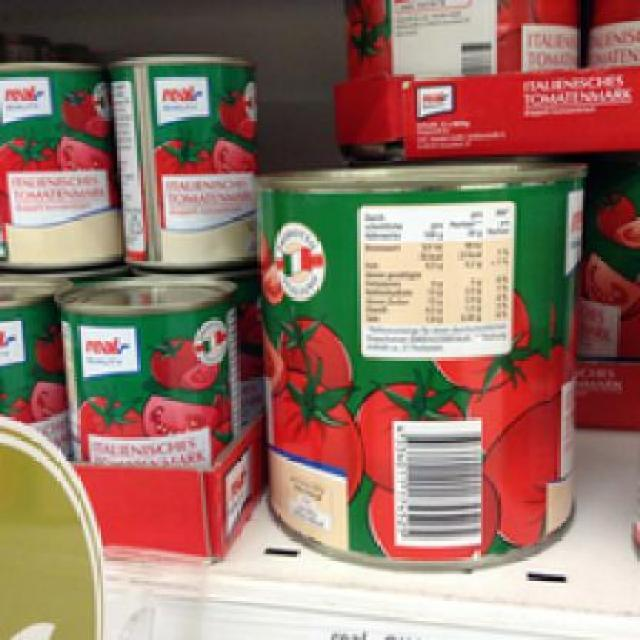Tomato Sauce: (251, 155, 584, 574), (52, 274, 235, 470), (102, 48, 255, 268), (0, 57, 117, 263)
